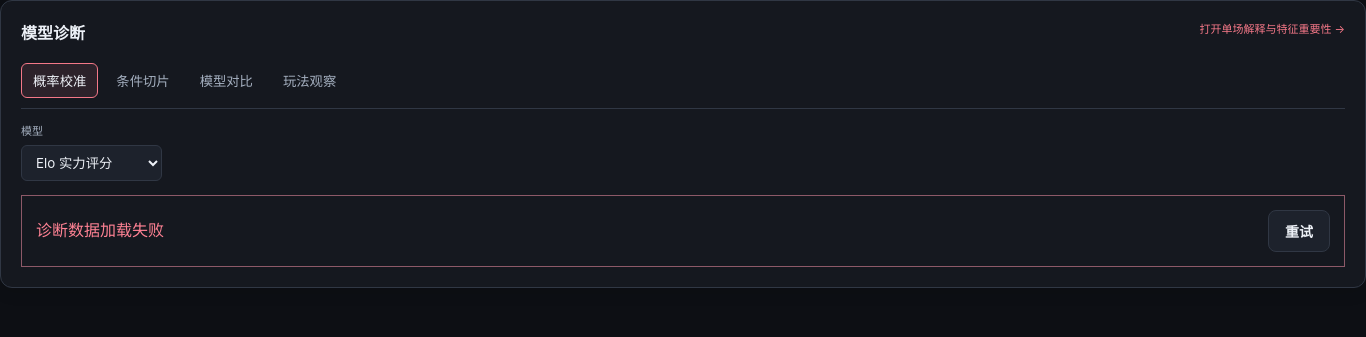
Test: ModelDiagnosticsPanel › 接口失败时显示错误并允许重试
The image size is (1366, 337).
Check: the message shows "诊断数据加载失败", box top-left (36, 220), bottom-right (164, 240)
Click the button "重试" at coordinates (1299, 231), box top-left (1268, 210), bottom-right (1330, 252)
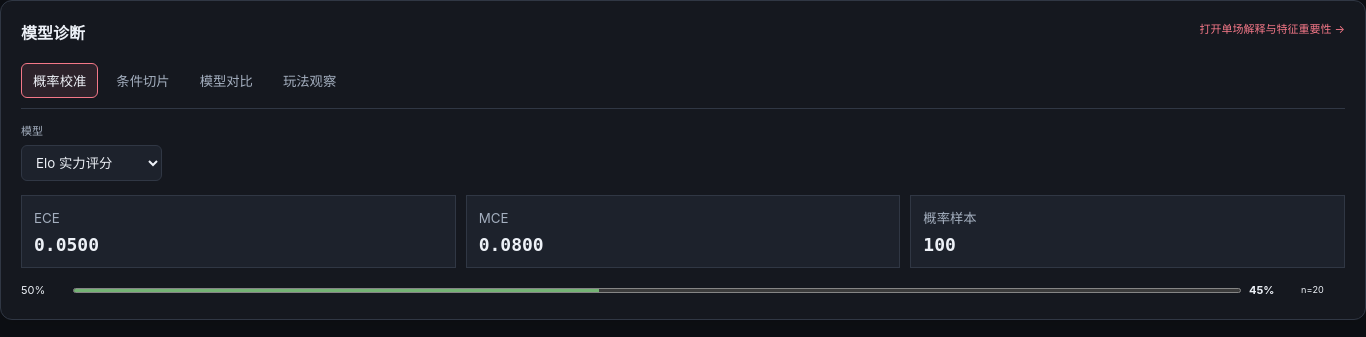
Check: the text "0.0500" is shown, box top-left (34, 234), bottom-right (99, 254)
